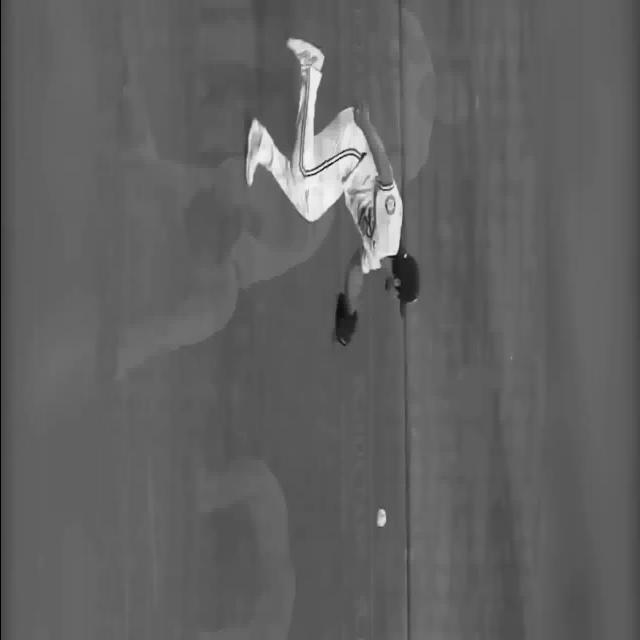baseball: (375, 509, 385, 527)
baseball_glove: (335, 293, 358, 347)
shoe: (285, 38, 324, 71), (245, 118, 262, 187)
